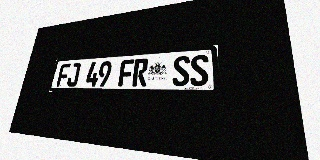4: (85, 62, 100, 87)
9: (97, 61, 112, 87)
F: (118, 59, 134, 86), (56, 64, 71, 87)
J: (66, 63, 81, 87)
R: (132, 58, 149, 86)
S: (190, 54, 209, 86), (172, 55, 190, 86)
